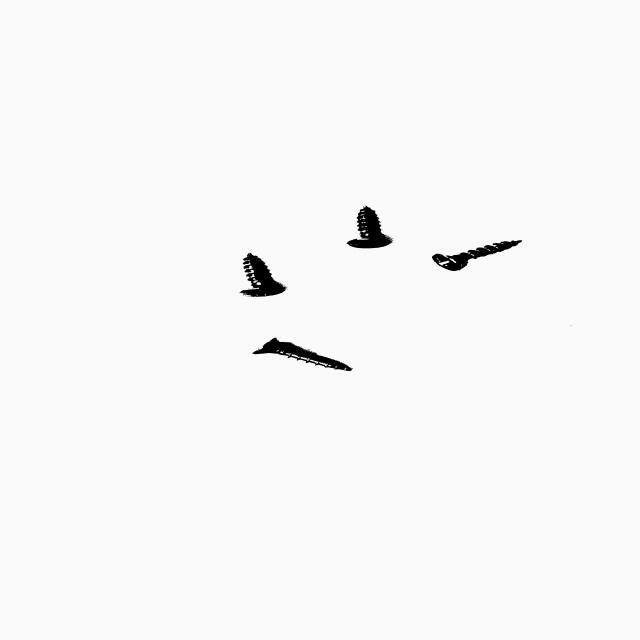Screw: (251, 338, 351, 371), (431, 240, 522, 271), (239, 253, 285, 297), (346, 206, 392, 248)
